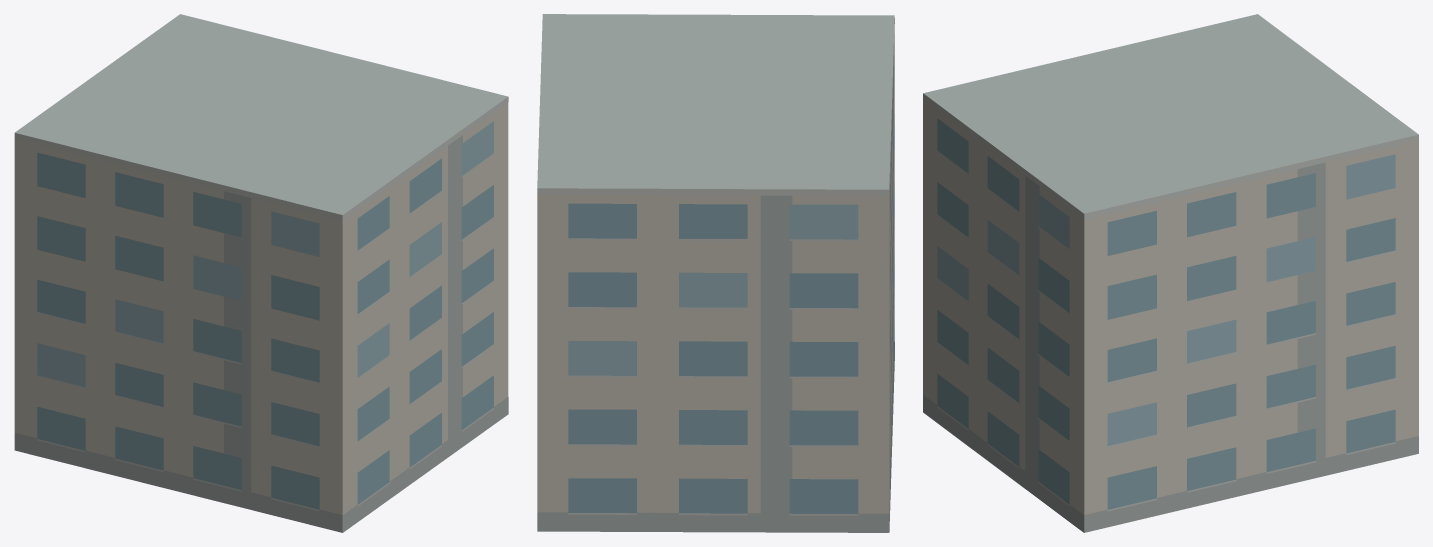
The model's file is survey-upis-33013985.glb.
The picture shows the model from 3 angles, left to right: view 1: azimuth 30°, elevation 25°; view 2: azimuth 150°, elevation 25°; view 3: azimuth 270°, elevation 25°; orthographic projection. The views are drawn at different scales.
Parts seen in each view (by area): view 1: survey-upis-33013985.tmp; view 2: survey-upis-33013985.tmp; view 3: survey-upis-33013985.tmp.
Part boxes in pixels (x1,y1,x2,y2): survey-upis-33013985.tmp: [14, 14, 508, 532]; survey-upis-33013985.tmp: [537, 14, 894, 532]; survey-upis-33013985.tmp: [923, 14, 1418, 532].
Bounding box in the file's own units: 17.72 × 13.2 × 18.59.
